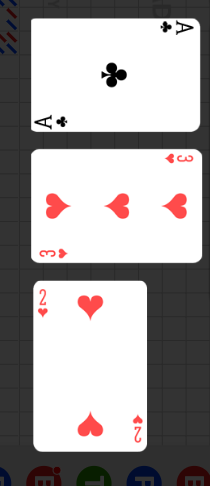2H: (130, 412, 144, 444), (37, 288, 50, 320)
AC: (157, 20, 195, 37)
